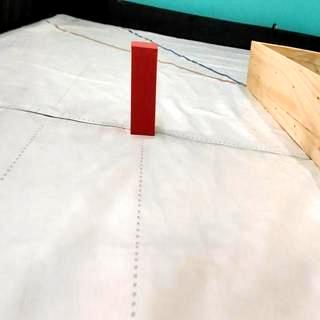redbox: (130, 40, 158, 136)
